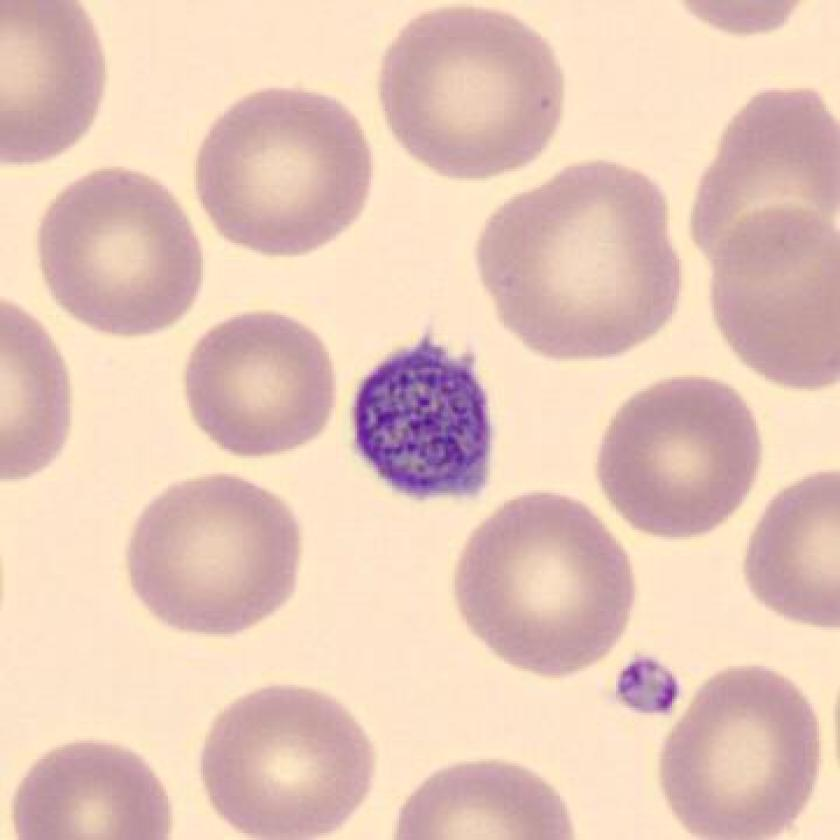platelets: (339, 332, 510, 519), (598, 642, 694, 730)
